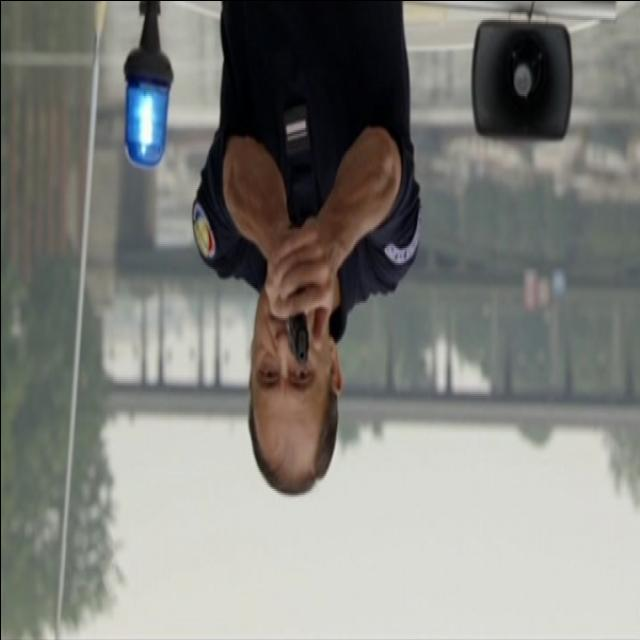weapons: (270, 235, 320, 379)
